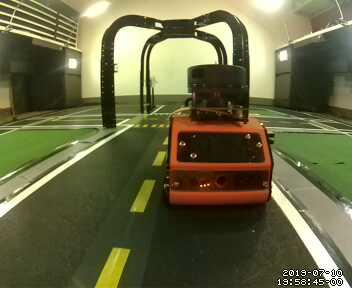pheeno: (162, 62, 280, 206)
